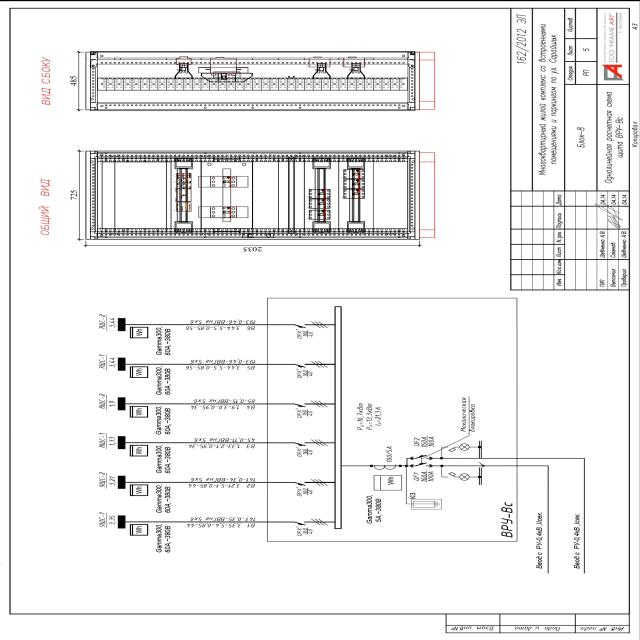-: (498, 500, 515, 538), (365, 494, 383, 522), (294, 484, 314, 496), (294, 524, 314, 536), (419, 434, 436, 448), (295, 446, 314, 458), (295, 406, 314, 418), (295, 366, 314, 378), (296, 326, 314, 338), (419, 469, 435, 482), (385, 444, 395, 462)
HL: (460, 442, 470, 450), (460, 472, 470, 480)
QF: (292, 320, 328, 328), (293, 360, 329, 368), (294, 399, 330, 407), (293, 438, 329, 446), (292, 516, 328, 524), (292, 478, 328, 486), (416, 453, 428, 468), (444, 470, 457, 478), (446, 444, 458, 452)
TT: (373, 461, 398, 469)
WH: (373, 474, 403, 490)
